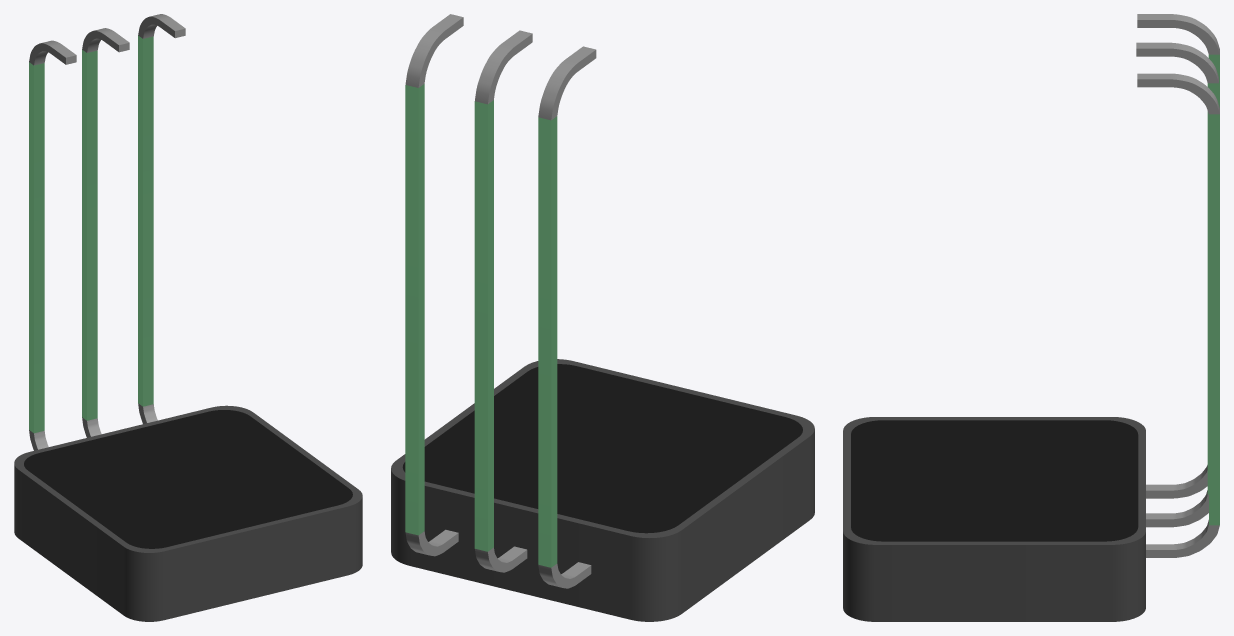
The model's file is Game_Board.glb.
3 views of the same model, side by side, from view 1: azimuth 30°, elevation 25°; view 2: azimuth 150°, elevation 25°; view 3: azimuth 270°, elevation 25° (orthographic). The views are drawn at different scales.
Parts seen in each view (by area): view 1: Cube.001, Cube.002, Cube.007, Cube.003; view 2: Cube.001, Cube.002, Cube.007, Cube.003; view 3: Cube.001, Cube.007, Cube.003, Cube.002.
Boxes of the visible parts, left/top/right/bottom form: Cube.001: left=14, top=405, right=362, bottom=621; Cube.002: left=29, top=40, right=76, bottom=450; Cube.007: left=138, top=14, right=185, bottom=423; Cube.003: left=82, top=28, right=129, bottom=437; Cube.001: left=391, top=359, right=814, bottom=621; Cube.002: left=538, top=46, right=596, bottom=588; Cube.007: left=405, top=14, right=463, bottom=556; Cube.003: left=474, top=30, right=532, bottom=572; Cube.001: left=843, top=417, right=1145, bottom=621; Cube.007: left=1137, top=73, right=1219, bottom=557; Cube.003: left=1136, top=42, right=1218, bottom=527; Cube.002: left=1137, top=14, right=1219, bottom=498.
Bounding box in the file's own units: 26.65 × 49.67 × 33.14.
